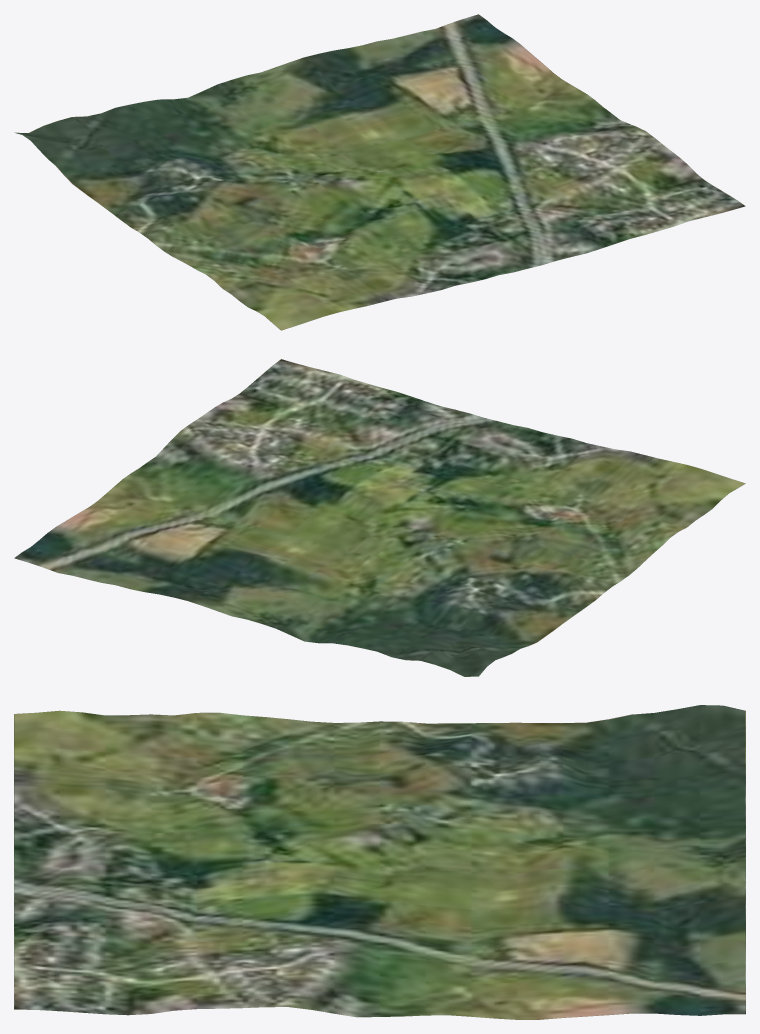
3 views of the same model, one above another, from view 1: azimuth 30°, elevation 25°; view 2: azimuth 150°, elevation 25°; view 3: azimuth 270°, elevation 25° (orthographic). The views are drawn at different scales.
Size of the model in its own units: 1950 by 79.21 by 1941.
Materials: 1 (1 with a texture image).
